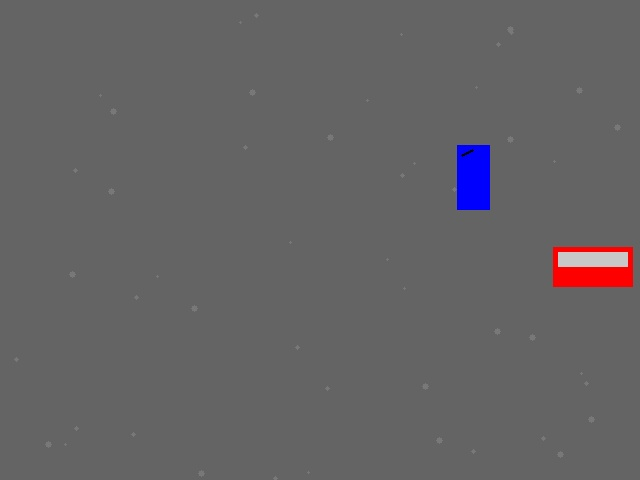car: (553, 247, 632, 286)
motorcycle: (457, 145, 489, 209)
